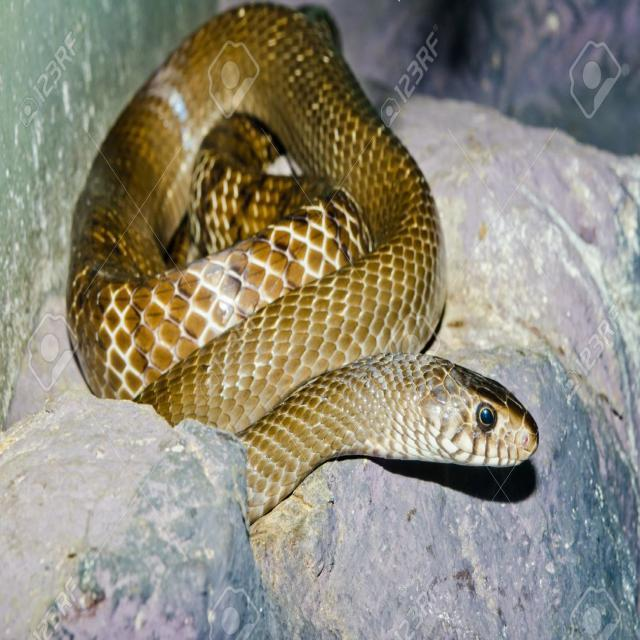Snake: (64, 1, 540, 526)
